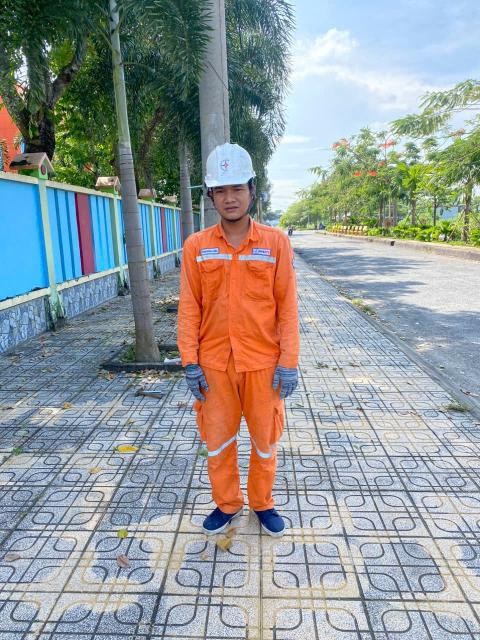harness: (176, 357, 228, 408), (270, 359, 306, 400)
helmet: (195, 143, 265, 194)
shoes: (247, 494, 297, 546), (193, 494, 252, 533)
